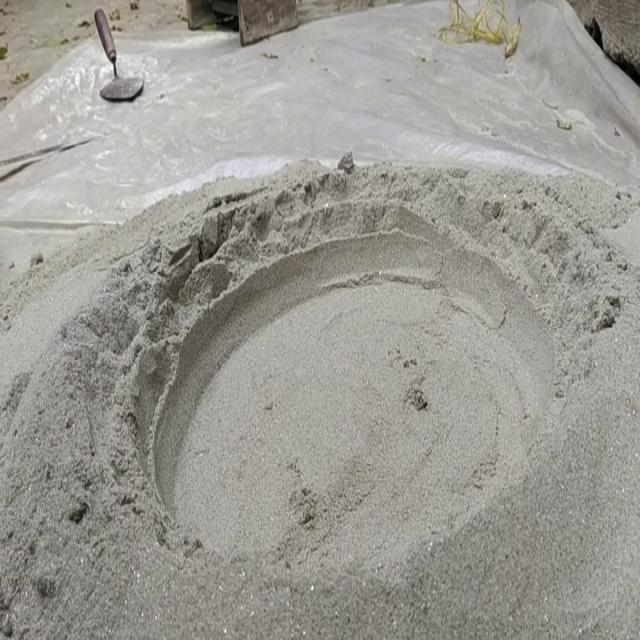C40: (154, 221, 563, 568)
